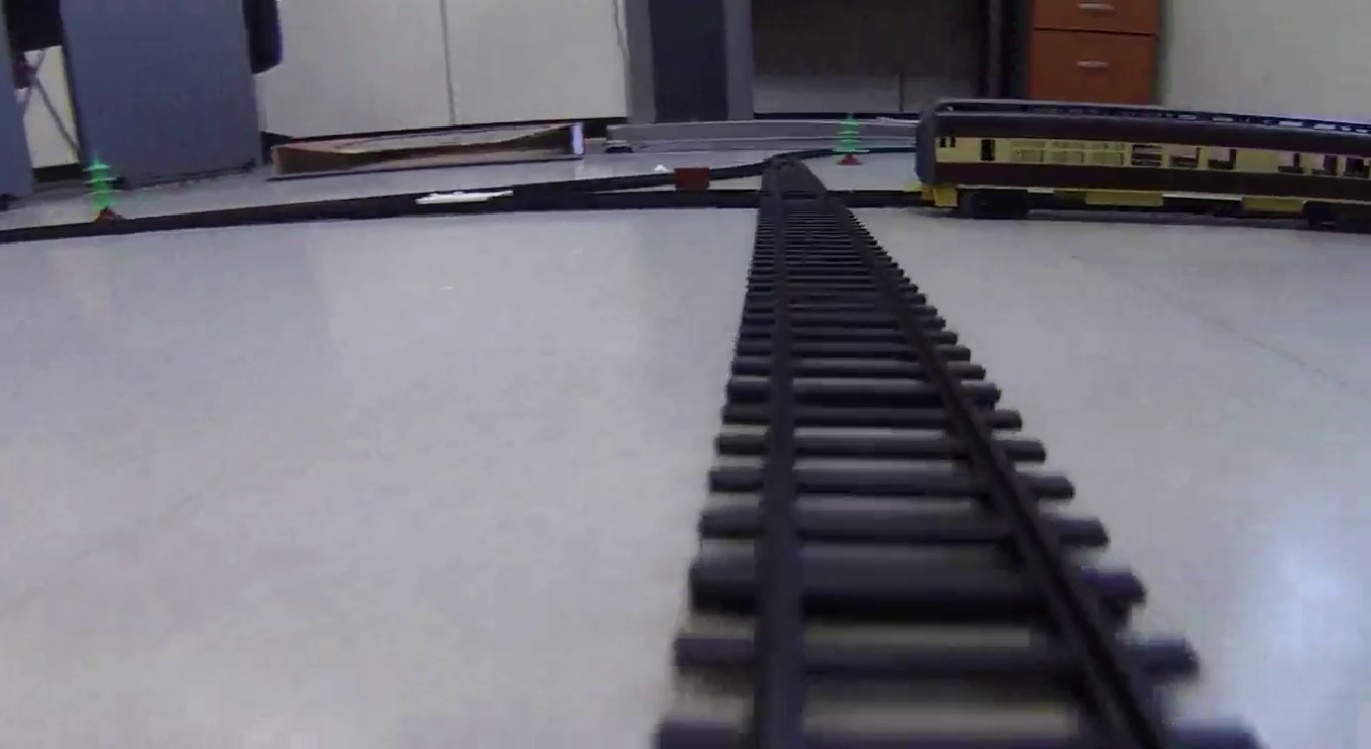tree: (83, 157, 123, 219)
